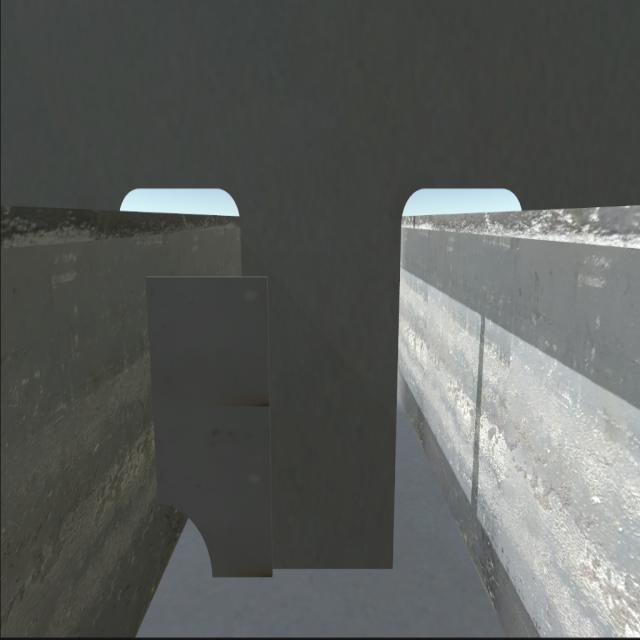fillet_hole: (158, 506, 216, 575)
fillet_yong_jeop_jang: (207, 556, 399, 578)
longi_yong_jeop_jang: (145, 268, 166, 518)
plate_CP01: (146, 273, 276, 579)
